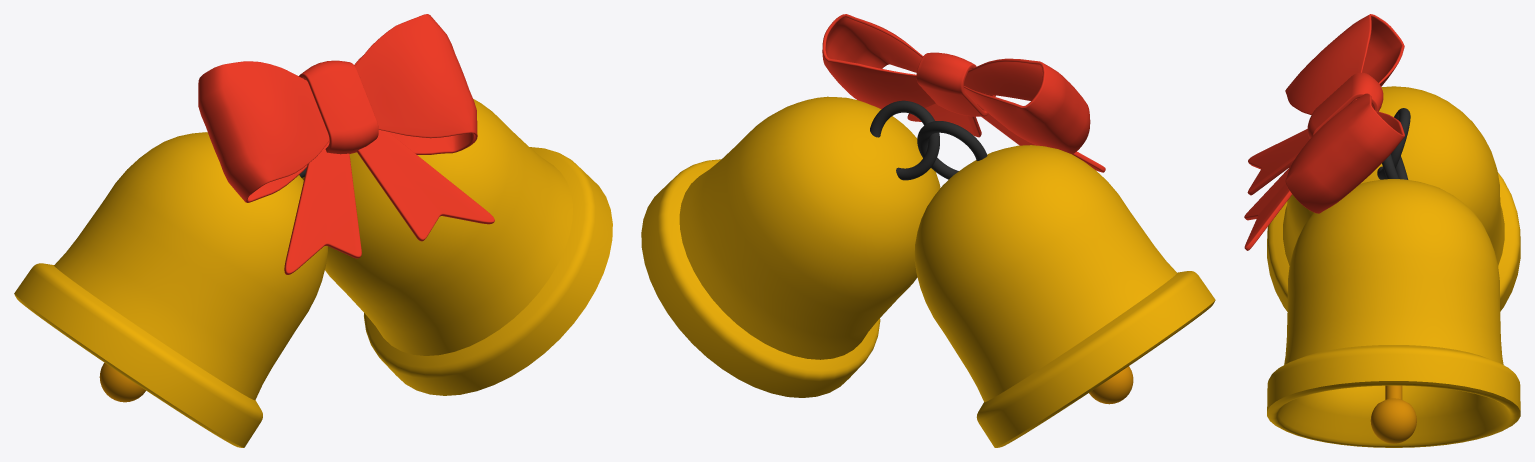
Rendered from social-media-core-service-video-1679423759975.glb.
The picture shows the model from 3 angles, left to right: view 1: azimuth 30°, elevation 25°; view 2: azimuth 150°, elevation 25°; view 3: azimuth 270°, elevation 25°; orthographic projection. The views are drawn at different scales.
Parts seen in each view (by area): view 1: christmasbells_bell1main, christmasbells_bell2main, christmasbell_bow, christmasbells_bell1knob; view 2: christmasbells_bell2main, christmasbells_bell1main, christmasbell_bow, christmasbells_bell1knob; view 3: christmasbells_bell2main, christmasbell_bow, christmasbells_bell1main, christmasbells_bell2knob.
Boxes of the visible parts, x1=… form: christmasbells_bell1main: x1=14, y1=132, x2=327, y2=447; christmasbells_bell2main: x1=302, y1=99, x2=612, y2=395; christmasbell_bow: x1=198, y1=14, x2=494, y2=274; christmasbells_bell1knob: x1=99, y1=363, x2=145, y2=402; christmasbells_bell2main: x1=641, y1=96, x2=940, y2=397; christmasbells_bell1main: x1=914, y1=121, x2=1215, y2=447; christmasbell_bow: x1=822, y1=14, x2=1105, y2=172; christmasbells_bell1knob: x1=1089, y1=366, x2=1133, y2=404; christmasbells_bell2main: x1=1267, y1=154, x2=1520, y2=447; christmasbell_bow: x1=1244, y1=14, x2=1404, y2=250; christmasbells_bell1main: x1=1267, y1=86, x2=1520, y2=311; christmasbells_bell2knob: x1=1370, y1=385, x2=1416, y2=443.
Size of the model in its own units: 2.42 by 1.58 by 1.14.
